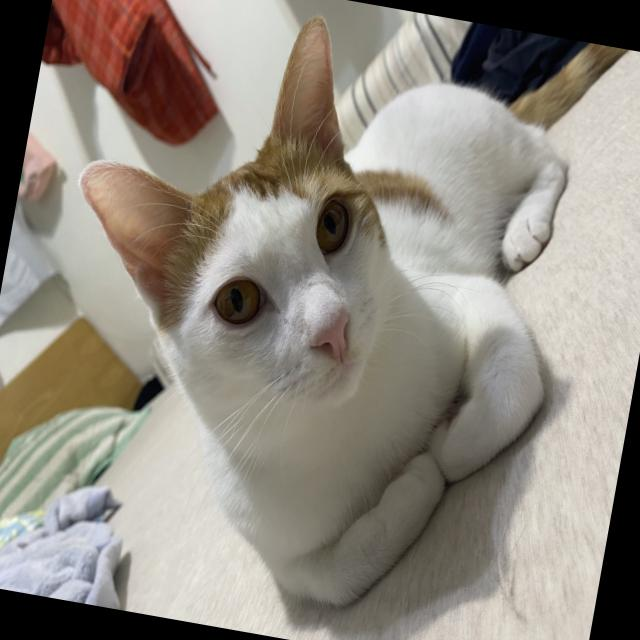cat1: (12, 0, 602, 634)
